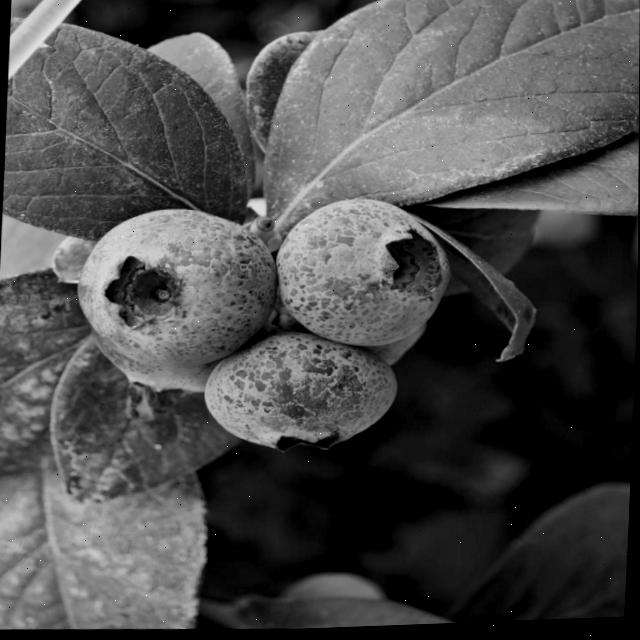RipeBlueBerry: (74, 200, 285, 378)
Semi-RipeBlueBerry: (274, 195, 456, 354), (201, 330, 403, 459)
